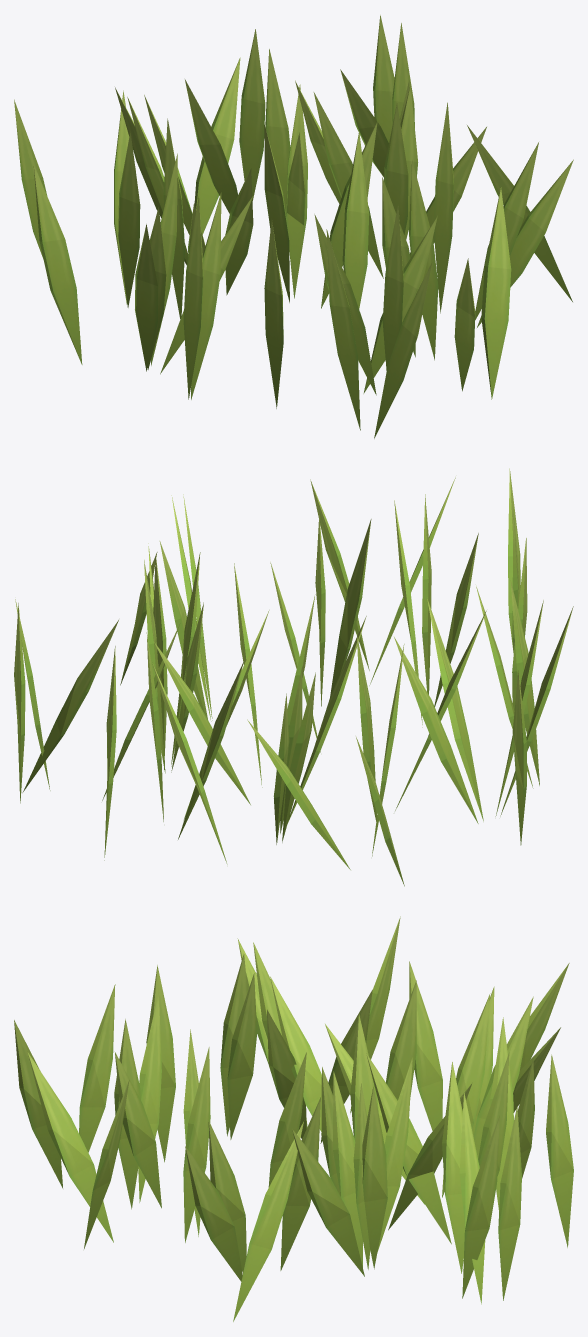
Rendered from grassLand_New_3.fbx.
3 renders of one model, top to bottom at view 1: azimuth 30°, elevation 25°; view 2: azimuth 150°, elevation 25°; view 3: azimuth 270°, elevation 25°, orthographic. The views are drawn at different scales.
Parts seen in each view (by area): view 1: Plane.687; view 2: Plane.687; view 3: Plane.687.
Boxes of the visible parts, left/top/right/bottom form: Plane.687: left=14, top=15, right=573, bottom=438; Plane.687: left=14, top=468, right=573, bottom=886; Plane.687: left=14, top=916, right=573, bottom=1321.
Size of the model in its own units: 2407 by 1030 by 2592.
Materials: 1 (1 with a texture image).
